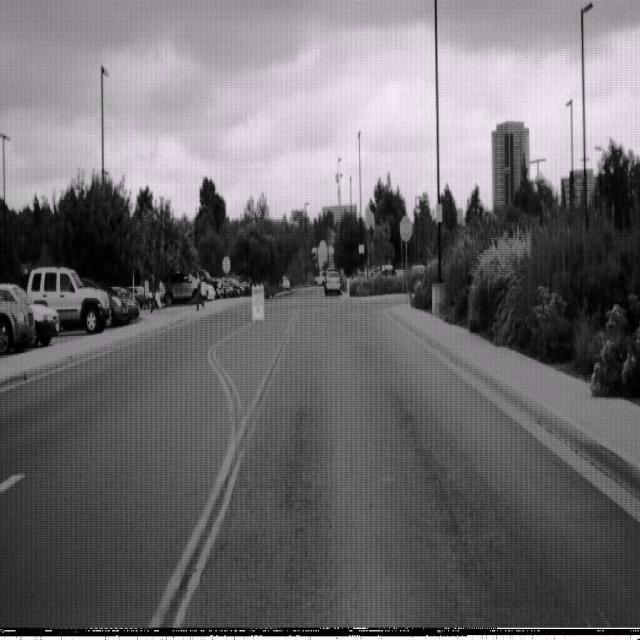stop_sign: (399, 214, 413, 242)
